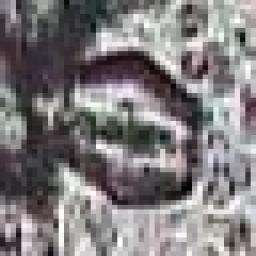crystals: (53, 51, 203, 209)
